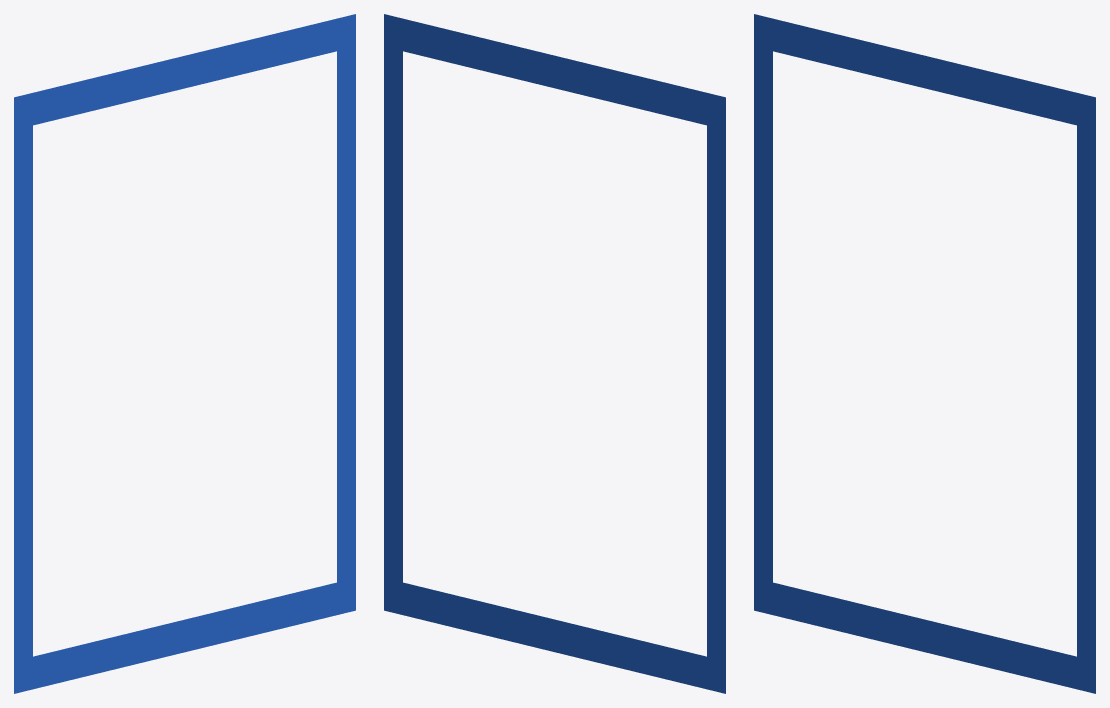
File: tetris-border.fbx
The picture shows the model from 3 angles, left to right: view 1: azimuth 30°, elevation 25°; view 2: azimuth 150°, elevation 25°; view 3: azimuth 330°, elevation 25°; orthographic projection.
Parts seen in each view (by area): view 1: Plane; view 2: Plane; view 3: Plane.
Part boxes in pixels (bbox=[...]): Plane: bbox=[14, 14, 355, 693]; Plane: bbox=[384, 14, 725, 693]; Plane: bbox=[754, 14, 1095, 693].
Bounding box in the file's own units: 200 × 334 × 1.46e-05.
